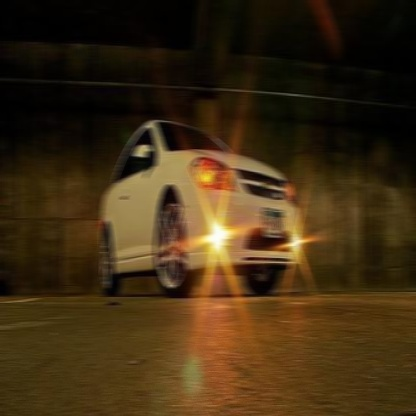Vehicle: (100, 119, 300, 301)
